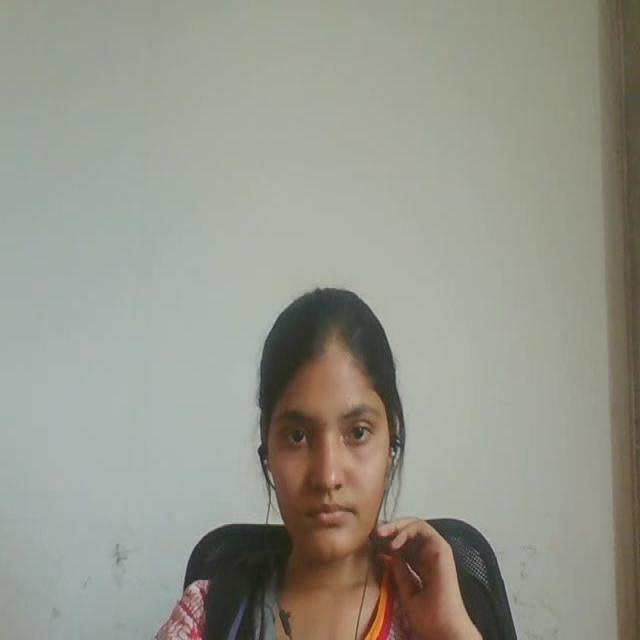Engaged: (226, 257, 432, 593)
